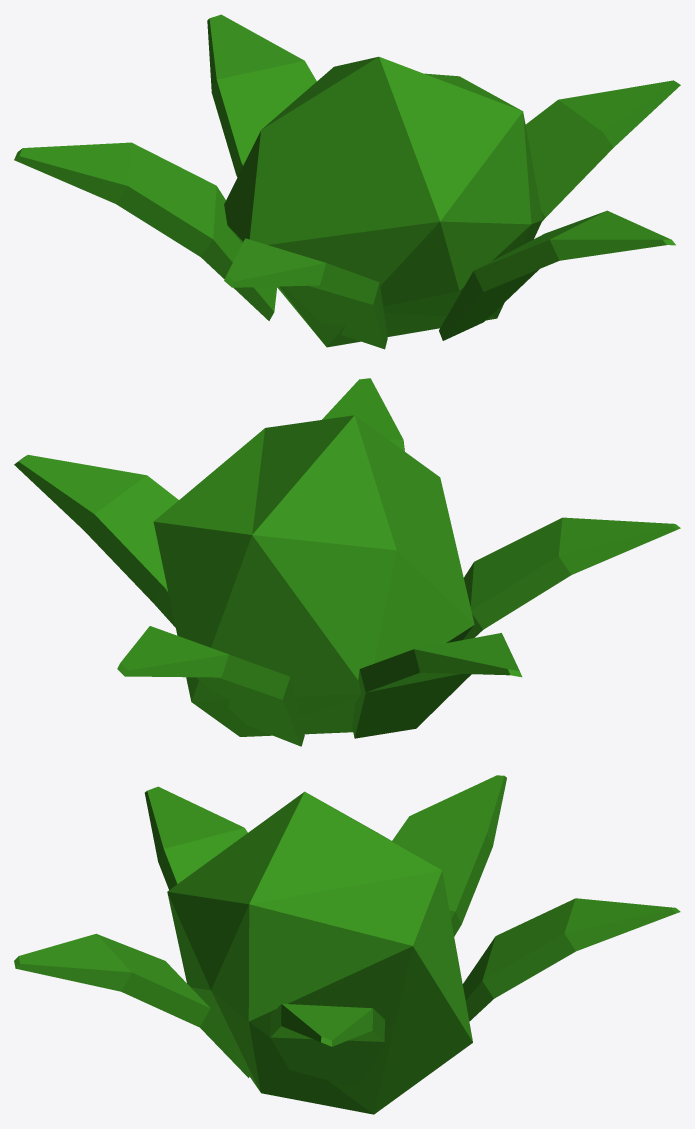
Rendered from LECHUGA.FBX.
The picture shows the model from 3 angles, top to bottom: view 1: azimuth 30°, elevation 25°; view 2: azimuth 150°, elevation 25°; view 3: azimuth 270°, elevation 25°; orthographic projection. The views are drawn at different scales.
Visible parts, largest first — view 1: lechuga012; view 2: lechuga012; view 3: lechuga012.
Part boxes in pixels (x1=…): lechuga012: x1=14, y1=14, x2=680, y2=349; lechuga012: x1=14, y1=378, x2=680, y2=746; lechuga012: x1=14, y1=775, x2=680, y2=1114.
Bounding box in the file's own units: 22.02 × 10.99 × 23.03.
